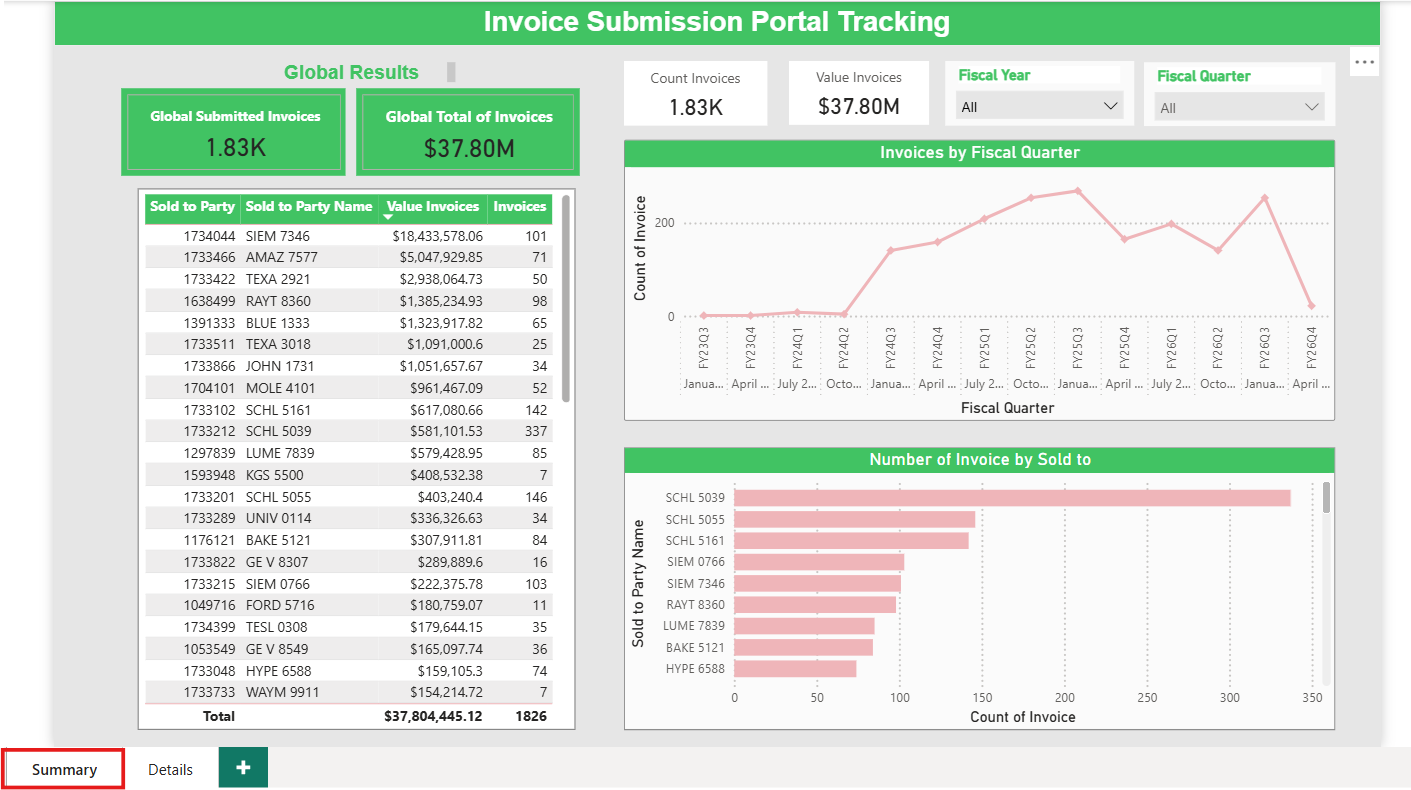

This screenshot's page, from the dashboard's own definition file:
{"tool":"powerbi","page":{"name":"Summary","canvas":[1280,720],"ordinal":0},"visuals":[{"type":"slicer","fields":{"Values":["FiscalCalendar.Fiscal Year"]},"box":[860.2,57.9,182.2,62.7],"z":0},{"type":"slicer","fields":{"Values":["FiscalCalendar.Fiscal Quarter"]},"box":[1052,59.1,184.6,61.5],"z":1000},{"type":"tableEx","fields":{"Values":["Customers.Sold to Party","Customers.Sold to Party Name","Sum(Invoices.Total Invoice)","CountNonNull(Invoices.Total Invoice)"]},"box":[80.8,181,422.3,522.4],"z":2000},{"type":"cardVisual","fields":{"Data":["Sum(Medidas DAX.number_invoices)"]},"box":[65.1,84.8,216.1,83.7],"z":3000},{"type":"cardVisual","fields":{"Data":["Sum(Medidas DAX.total_amount)"]},"box":[291.7,84.8,215,83.7],"z":4000},{"type":"barChart","title":"Number of Invoice by Sold to","fields":{"Category":["Customers.Sold to Party Name"],"Y":["CountNonNull(Invoices.Invoice)"]},"box":[550.1,430.7,686.5,272.7],"z":5000},{"type":"lineChart","title":"Invoices by Fiscal Quarter","fields":{"Category":["FiscalCalendar.Date (bins)","FiscalCalendar.Fiscal Quarter"],"Y":["CountNonNull(Invoices.Invoice)"]},"box":[550.1,133.9,686.5,271.4],"z":6000},{"type":"cardVisual","fields":{"Data":["CountNonNull(Invoices.Total Invoice)"]},"box":[550.1,57.9,138.7,62.7],"z":7000},{"type":"cardVisual","fields":{"Data":["Sum(Invoices.Total Invoice)"]},"box":[709.4,57.9,135.1,61.5],"z":8000},{"type":"textbox","box":[0,0,1280,43.3],"z":9000},{"type":"textbox","box":[190.6,54.6,202.2,30.2],"z":11001}]}

Visuals, with their boxes in screenshot pixels (x1, y1, x2, y2), scaled from the page's 1280x720 canvas onto the 1411x790 screenshot:
slicer - FiscalCalendar.Fiscal Year: locate(948, 64, 1149, 132)
slicer - FiscalCalendar.Fiscal Quarter: locate(1160, 65, 1363, 132)
tableEx - Customers.Sold to Party x Customers.Sold to Party Name: locate(89, 199, 555, 772)
cardVisual - Sum(Medidas DAX.number_invoices): locate(72, 93, 310, 185)
cardVisual - Sum(Medidas DAX.total_amount): locate(322, 93, 559, 185)
"Number of Invoice by Sold to" barChart: locate(606, 473, 1363, 772)
"Invoices by Fiscal Quarter" lineChart: locate(606, 147, 1363, 445)
cardVisual - CountNonNull(Invoices.Total Invoice): locate(606, 64, 759, 132)
cardVisual - Sum(Invoices.Total Invoice): locate(782, 64, 931, 131)
textbox: locate(0, 0, 1410, 48)
textbox: locate(210, 60, 433, 93)
